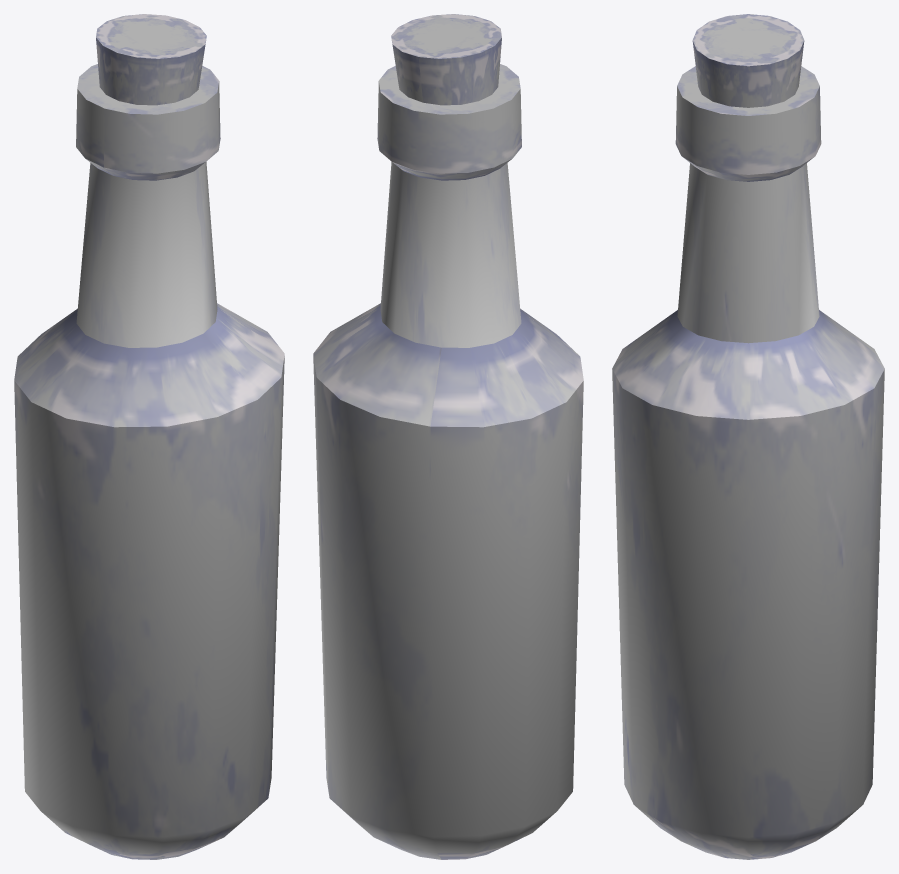
File: Bottle_1.fbx
3 renders of one model, left to right at view 1: azimuth 30°, elevation 25°; view 2: azimuth 150°, elevation 25°; view 3: azimuth 270°, elevation 25°, orthographic.
Parts seen in each view (by area): view 1: Bottle_1; view 2: Bottle_1; view 3: Bottle_1.
Boxes of the visible parts, bbox=[...] form: Bottle_1: bbox=[14, 14, 284, 859]; Bottle_1: bbox=[313, 14, 583, 859]; Bottle_1: bbox=[612, 14, 884, 859].
Bounding box in the file's own units: 11.27 × 36.47 × 11.29.
